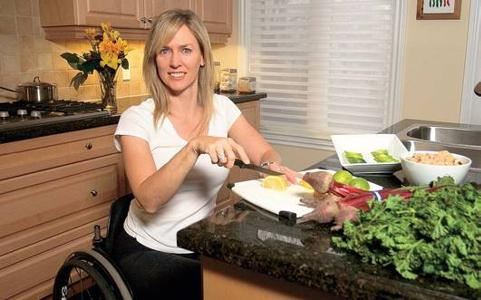person: (97, 9, 300, 300)
